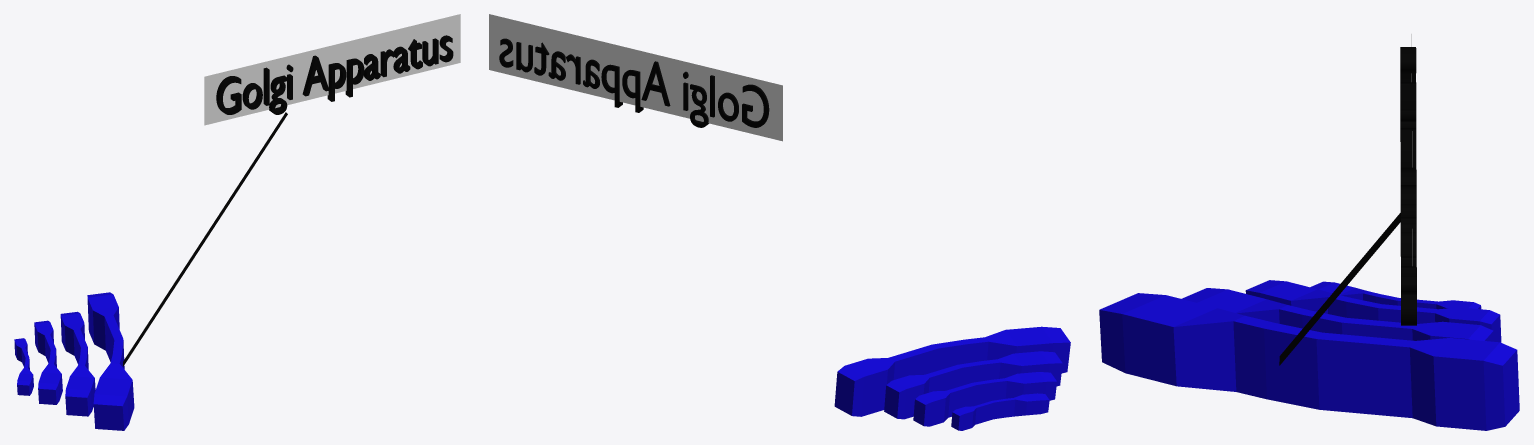
Rendered from golgi.gltf.
3 views of the same model, side by side, from view 1: azimuth 30°, elevation 25°; view 2: azimuth 150°, elevation 25°; view 3: azimuth 270°, elevation 25° (orthographic). The views are drawn at different scales.
Visible parts, largest first — view 1: Cube.005, Plane.017, Text.017, Plane.037; view 2: Cube.005, Plane.017, Text.017; view 3: Cube.005, Text.017, Plane.037.
Boxes of the visible parts, x1,y1,x2,y2 form: Cube.005: (14, 292, 134, 430); Plane.017: (204, 14, 460, 125); Text.017: (216, 35, 453, 114); Plane.037: (123, 112, 287, 366); Cube.005: (834, 326, 1070, 430); Plane.017: (489, 14, 782, 141); Text.017: (499, 38, 769, 127); Cube.005: (1099, 280, 1519, 430); Text.017: (1400, 47, 1416, 325); Plane.037: (1279, 213, 1400, 365).
Bounding box in the file's own units: 2.43 × 1.28 × 0.9744.
